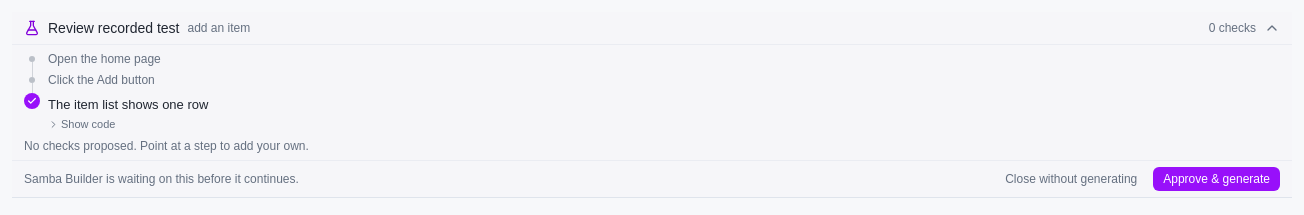
it: TestAssertionsPlanCard › does not start a second turn when the hand-off fails but the turn is still parked
The width and height of the screenshot is (1304, 215).
Click the button with test id "samba-test-assertions-approve-button" at (1217, 178), box [1153,166,1280,190]
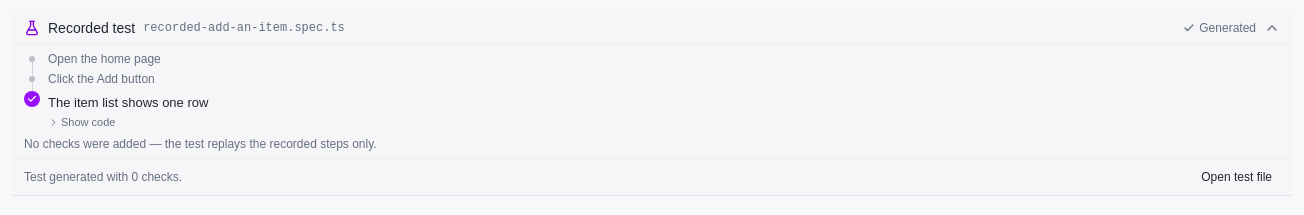
Result: the button with test id "samba-test-assertions-open-file-button" is shown at [1193,164,1280,188]
